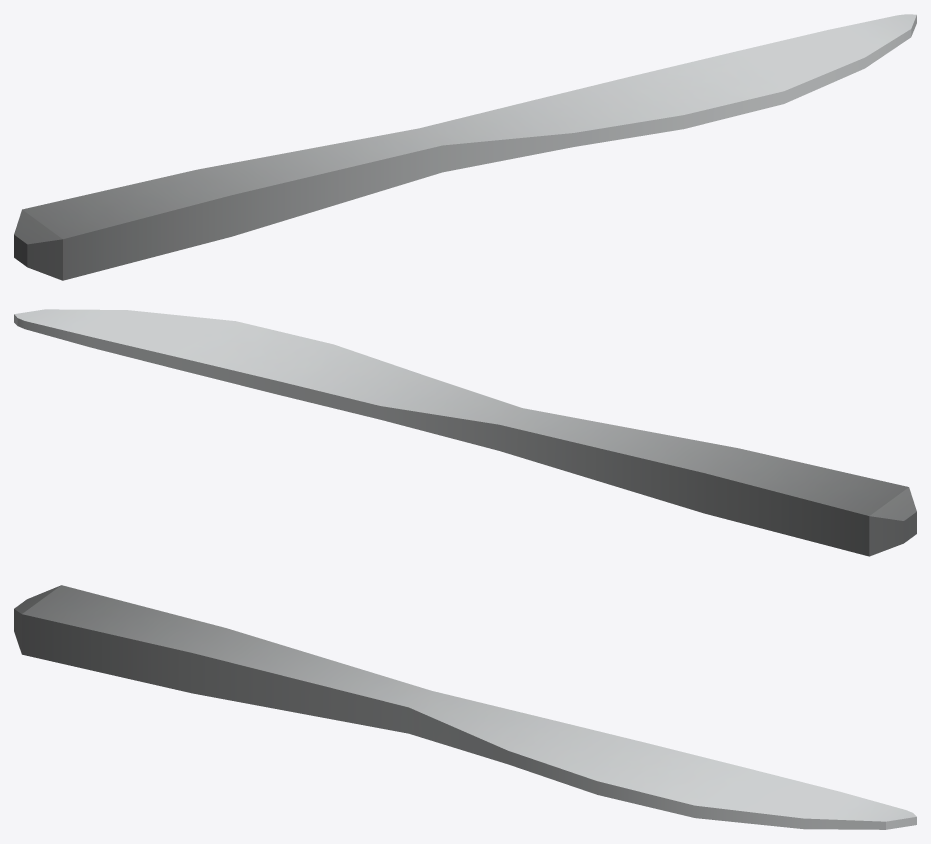
The model's file is Knife.fbx.
The picture shows the model from 3 angles, top to bottom: view 1: azimuth 30°, elevation 25°; view 2: azimuth 150°, elevation 25°; view 3: azimuth 330°, elevation 25°; orthographic projection. The views are drawn at different scales.
Parts seen in each view (by area): view 1: Knife; view 2: Knife; view 3: Knife.
Boxes of the visible parts, box(x1,y1,x2,y2) form: Knife: box(14, 14, 916, 280); Knife: box(14, 309, 916, 556); Knife: box(14, 585, 916, 829).
Size of the model in its own units: 22.07 by 0.9643 by 2.36.
